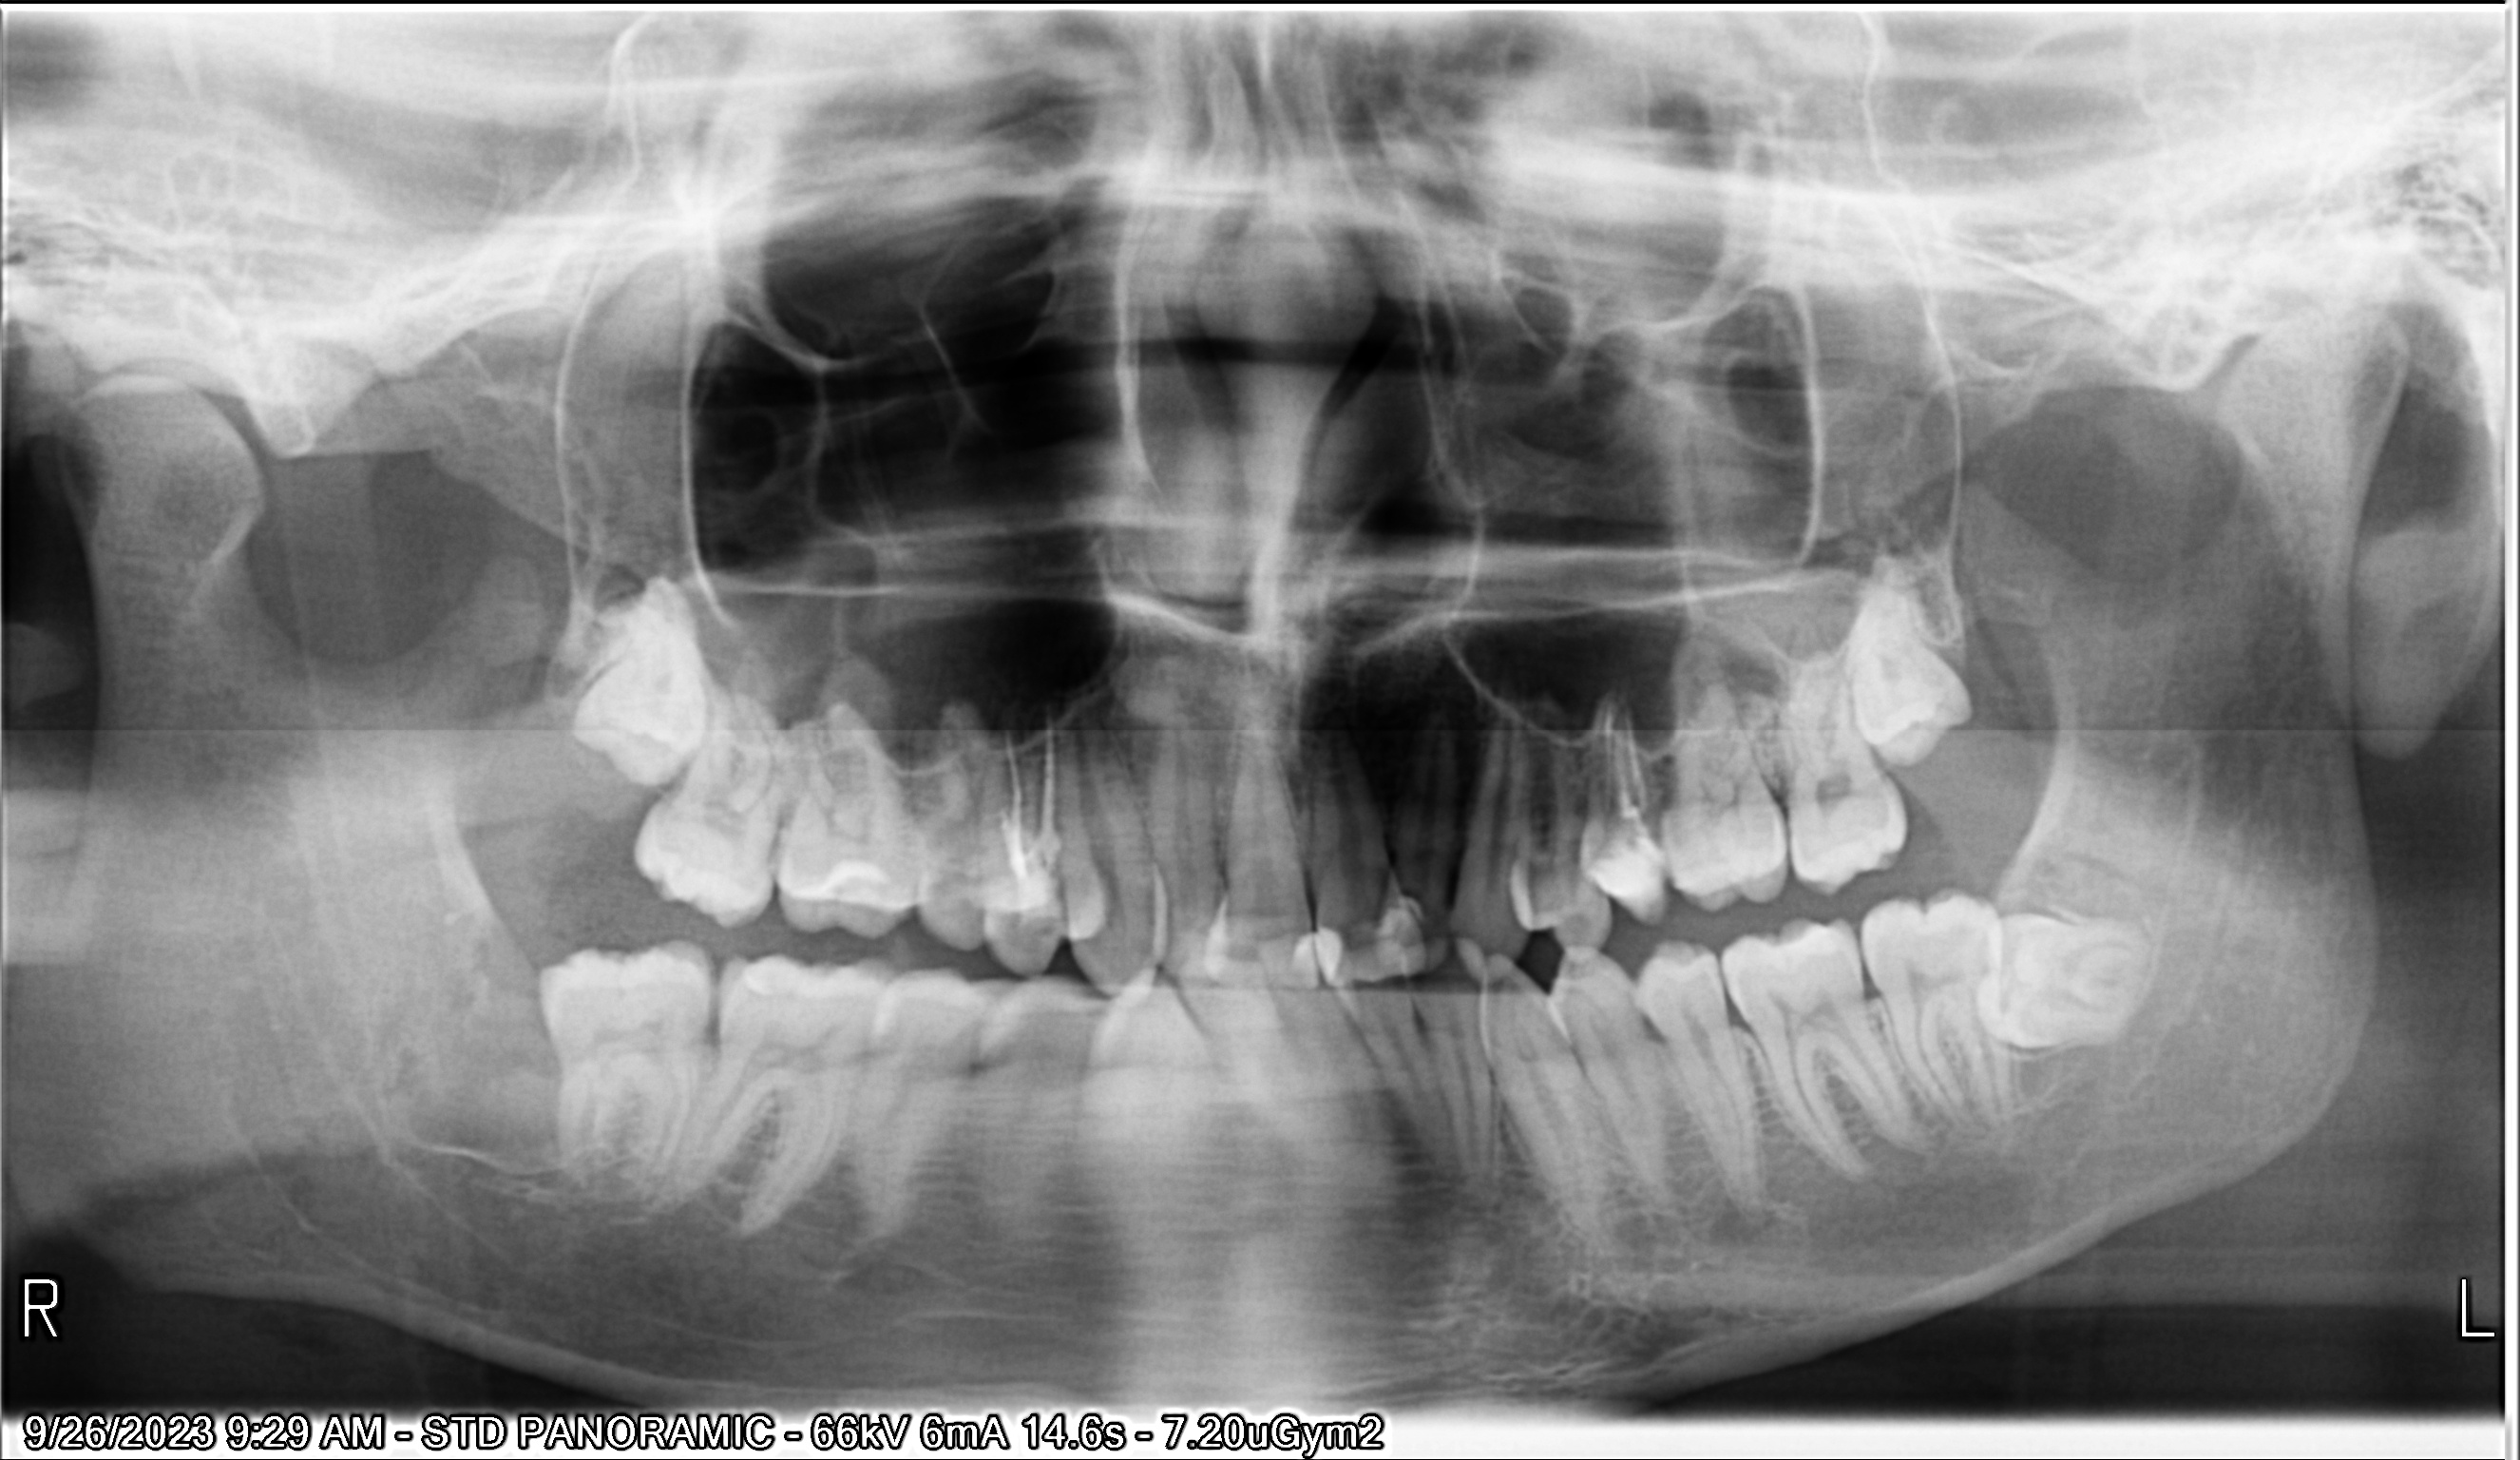END: (985, 716, 1080, 878), (1596, 695, 1669, 846)
IMT: (535, 575, 728, 803), (1969, 912, 2192, 1057), (1844, 553, 1985, 773)
OBT: (809, 846, 903, 925), (1367, 892, 1443, 979), (1282, 930, 1329, 996), (1316, 912, 1355, 992)
